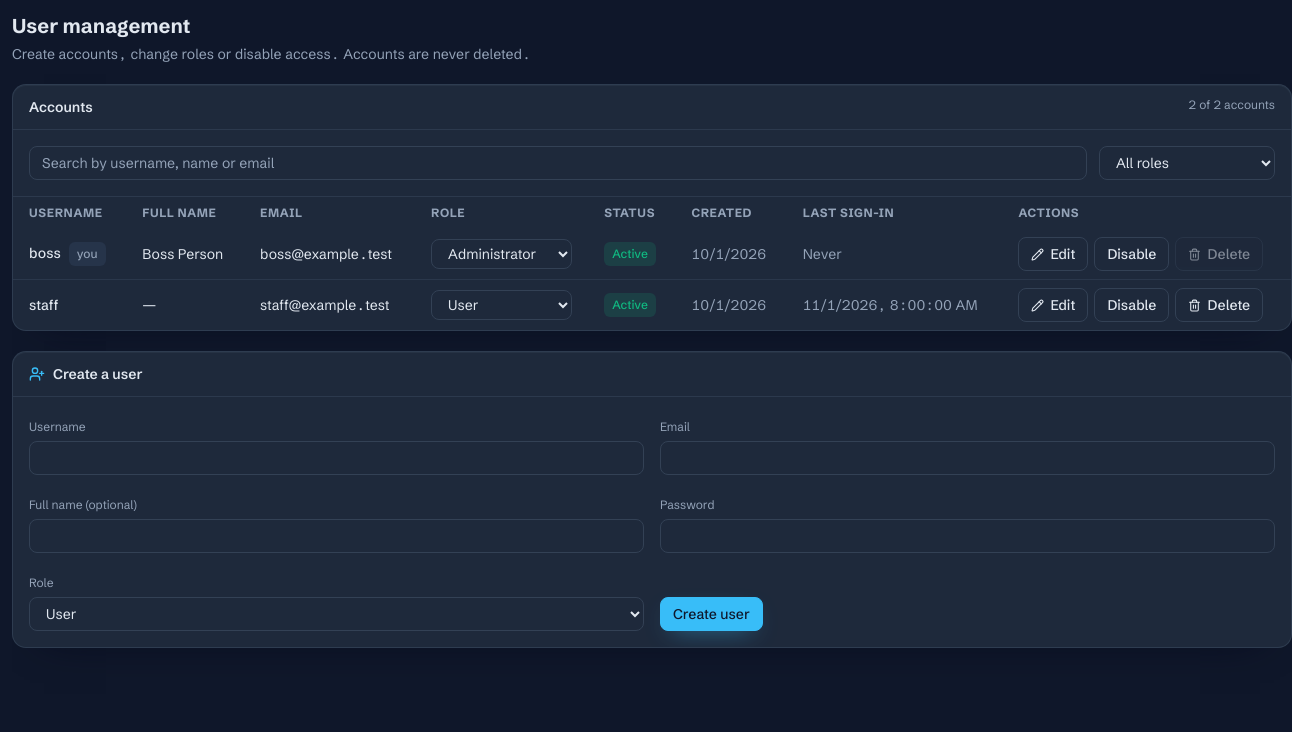
Test: Users page (admin): role, status › changing the role sends only vai_tro, then the list is reloaded from the server
The width and height of the screenshot is (1292, 732).
Select "Administrator" in the dropdown named "Role staff" at (502, 305), box [431, 290, 572, 320]
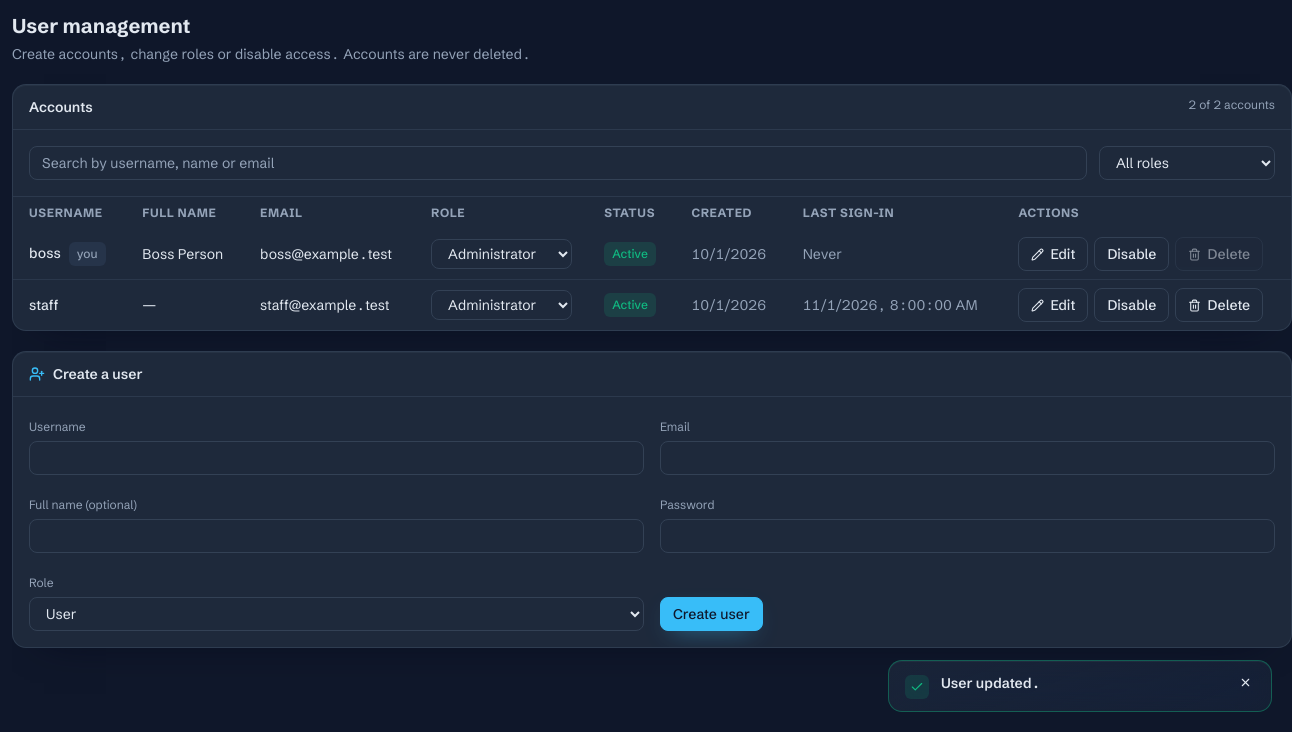
expect the text "User updated." is shown: met, box [941, 674, 1040, 692]
